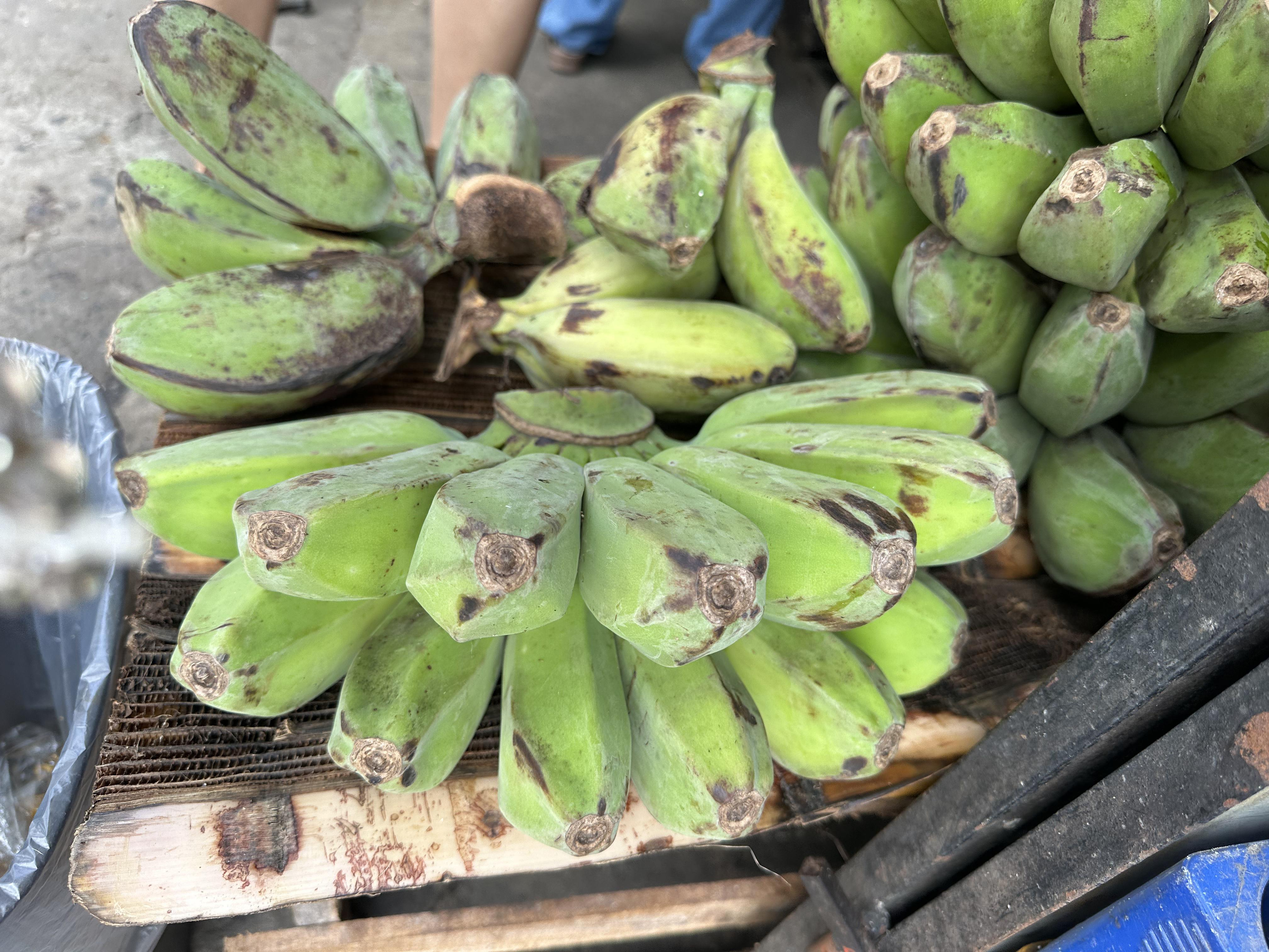underripe: (118, 369, 1021, 857), (791, 85, 1269, 598), (106, 0, 545, 424), (806, 0, 1269, 332), (575, 93, 872, 354), (521, 231, 803, 412)
